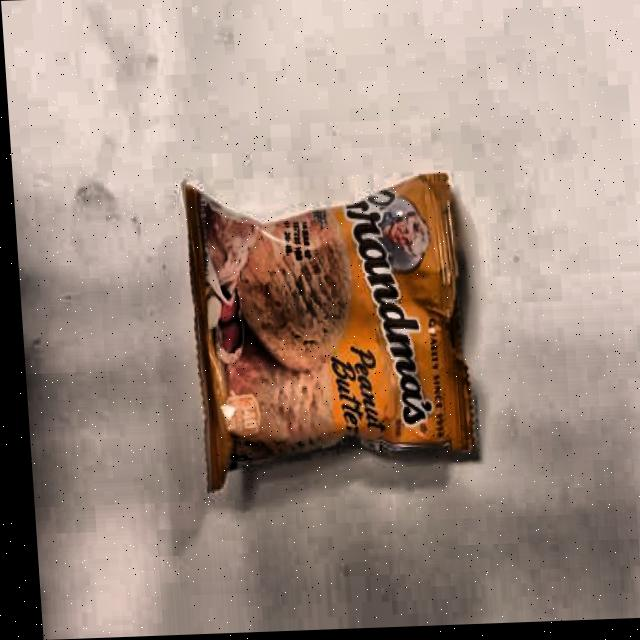trash: (177, 159, 486, 491)
